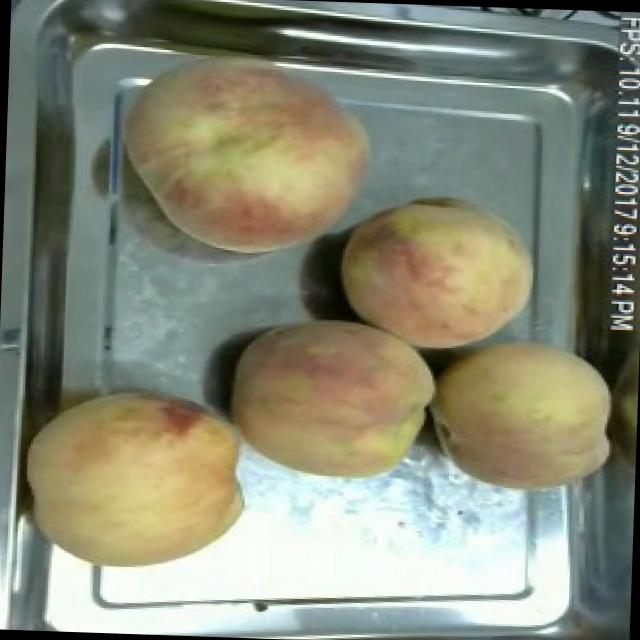Fruit: (106, 37, 387, 268), (13, 376, 256, 582), (220, 302, 447, 488), (328, 185, 546, 362), (421, 323, 625, 502)
